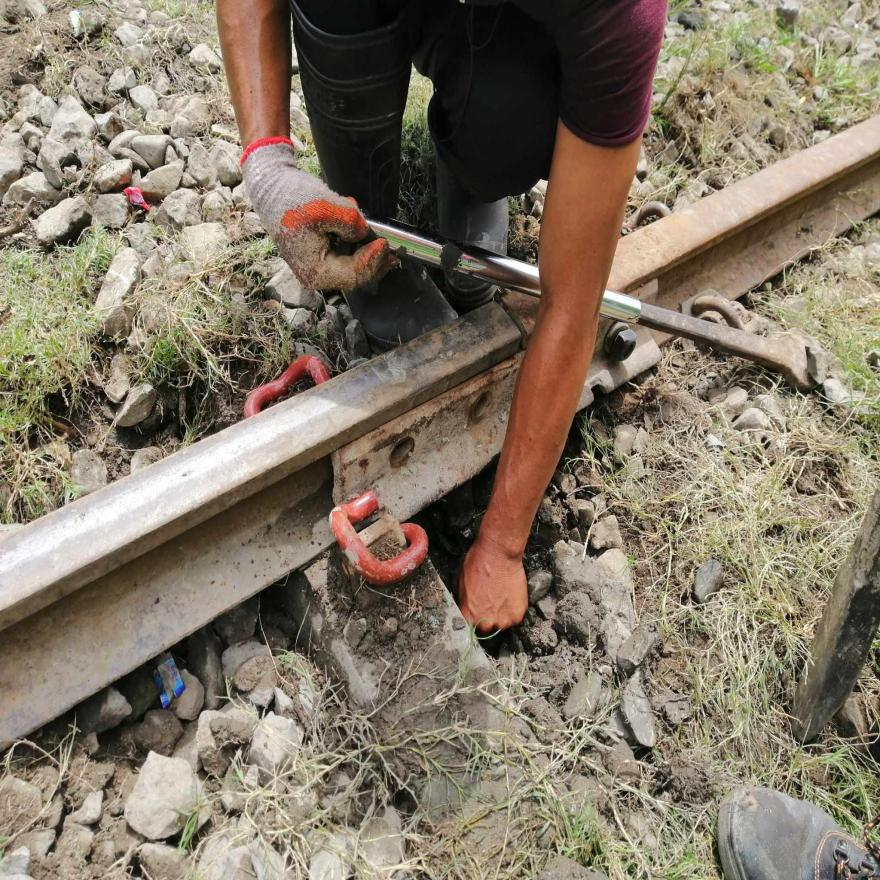railway-gap: (486, 282, 541, 355)
